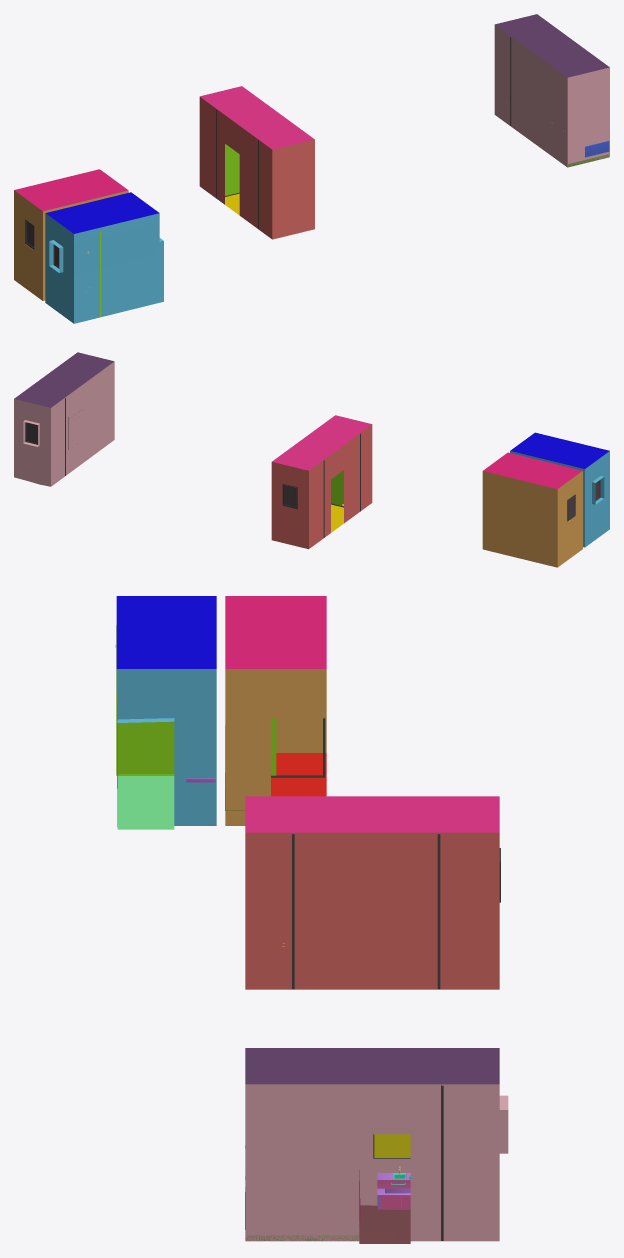
File: Bathrooms.fbx
The picture shows the model from 3 angles, top to bottom: view 1: azimuth 30°, elevation 25°; view 2: azimuth 150°, elevation 25°; view 3: azimuth 270°, elevation 25°; orthographic projection. The views are drawn at different scales.
Visible parts, largest first — view 1: B1_Walls, B4_Walls, B2_Walls, B3_walls, B2_Glass; view 2: B1_Walls, B3_walls, B2_Walls, B4_Walls, B2_Glass, B2_Window; view 3: B2_Walls, B1_Walls, B3_walls, B4_Walls, B4_GLass.001, B1_Cabinet.001, B2_Frame, B1_Mirror.
Part boxes in pixels (box(x1,y1,x2,y2)): B1_Walls: box(494, 14, 609, 167); B4_Walls: box(45, 192, 163, 323); B2_Walls: box(199, 86, 314, 239); B3_walls: box(14, 169, 128, 300); B2_Glass: box(225, 144, 239, 195); B1_Walls: box(14, 352, 114, 486); B3_walls: box(482, 452, 582, 567); B2_Walls: box(271, 415, 372, 549); B4_Walls: box(510, 432, 609, 547); B2_Glass: box(331, 470, 343, 505); B2_Window: box(282, 484, 297, 509); B2_Walls: box(245, 796, 499, 989); B1_Walls: box(245, 1048, 508, 1243); B3_walls: box(225, 596, 326, 825); B4_Walls: box(116, 596, 216, 829); B4_GLass.001: box(118, 721, 174, 773); B1_Cabinet.001: box(377, 1173, 410, 1209); B2_Frame: box(292, 834, 440, 989); B1_Mirror: box(374, 1134, 410, 1157).
Size of the model in its own units: 2050 by 309 by 688.
